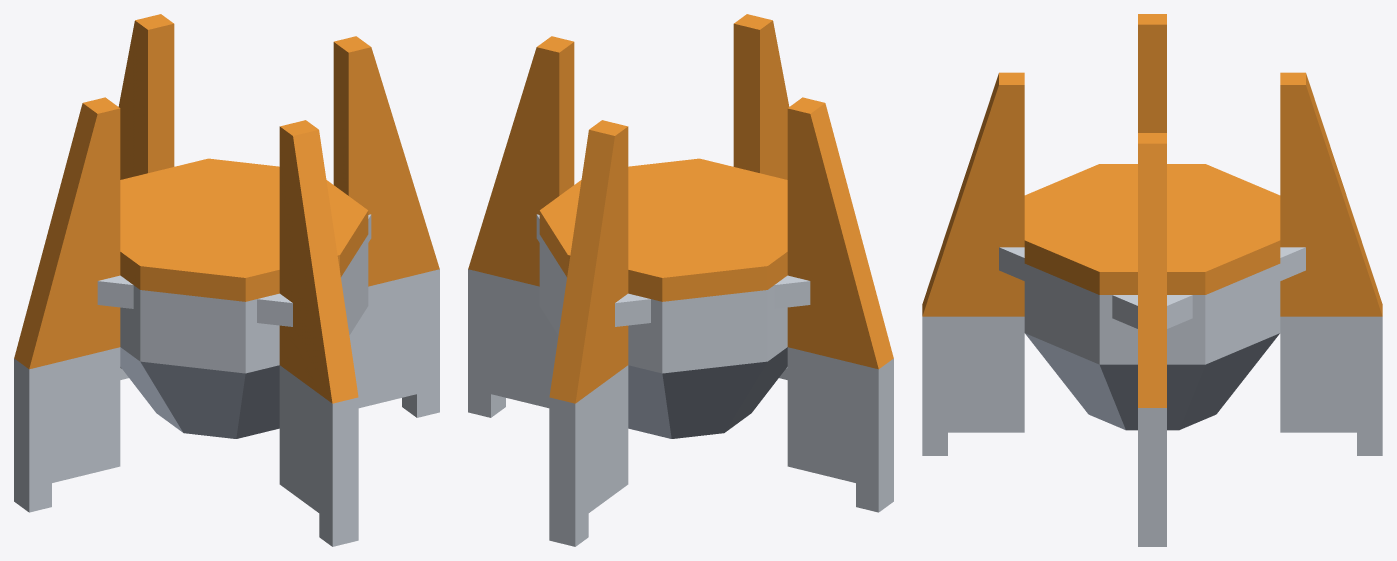
File: k-rocket-base-a.glb
3 views of the same model, side by side, from view 1: azimuth 30°, elevation 25°; view 2: azimuth 150°, elevation 25°; view 3: azimuth 270°, elevation 25° (orthographic). The views are drawn at different scales.
Visible parts, largest first — view 1: rocket_baseA; view 2: rocket_baseA; view 3: rocket_baseA.
Boxes of the visible parts, bbox=[...] form: rocket_baseA: bbox=[14, 14, 439, 546]; rocket_baseA: bbox=[468, 14, 893, 546]; rocket_baseA: bbox=[922, 14, 1382, 546].
Bounding box in the file's own units: 1.8 × 1.6 × 1.8.
